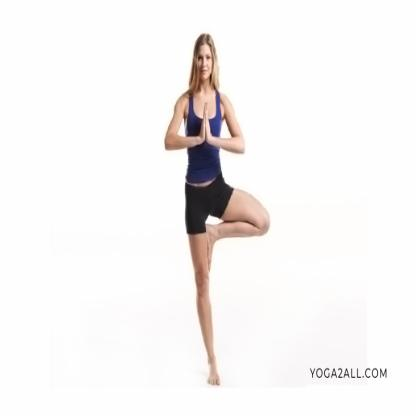tree: (162, 25, 273, 388)
